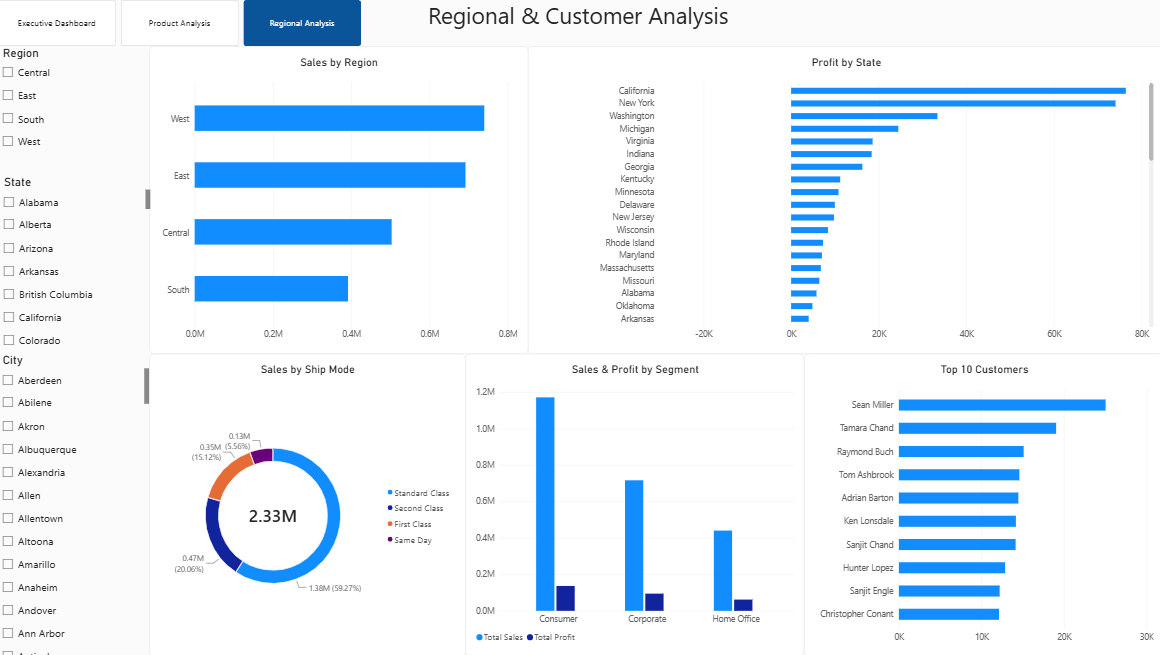

The page's visual inventory and layout, read from the dashboard file:
{"tool":"powerbi","page":{"name":"Regional Analysis","canvas":[1920,1080],"ordinal":2},"visuals":[{"type":"textbox","box":[708.1,0,537.2,279.9],"z":0},{"type":"barChart","title":"Sales by Region","fields":{"Category":["SalesData.Region"],"Y":["DateTable.Total Sales"]},"box":[249.1,76.2,623.7,506.3],"z":1000},{"type":"barChart","title":"Profit by State","fields":{"Category":["SalesData.State"],"Y":["DateTable.Total Profit"]},"box":[872.7,76.2,1047.7,506.3],"z":2000},{"type":"donutChart","title":"Sales by Ship Mode","fields":{"Category":["SalesData.Ship Mode"],"Y":["DateTable.Total Sales"]},"box":[249.1,582.5,520.8,498.1],"z":3000},{"type":"clusteredColumnChart","title":"Sales & Profit by Segment","fields":{"Category":["SalesData.Segment"],"Y":["DateTable.Total Sales","DateTable.Total Profit"]},"box":[769.8,582.5,557.8,498.1],"z":4000},{"type":"barChart","title":"Top 10 Customers","fields":{"Category":["SalesData.Customer Name"],"Y":["DateTable.Total Sales"]},"box":[1327.6,582.5,592.8,498.1],"z":5000},{"type":"slicer","fields":{"Values":["SalesData.Region"]},"box":[0,76.2,140,203.8],"z":6000},{"type":"slicer","fields":{"Values":["SalesData.State"]},"box":[2.1,288.2,249.1,294.3],"z":7000},{"type":"slicer","fields":{"Values":["SalesData.City"]},"box":[0,582.5,249.1,498.1],"z":8000},{"type":"pageNavigator","box":[0,0,599,76.2],"z":9000}]}

Visuals, with their boxes on the page's 1920x1080 design canvas (x1, y1, x2, y2). These are canvas units, not pixel positions in the 1160x655 screenshot, which may show the page scaled, cropped or inside an application window:
textbox: BBox(708, 0, 1245, 280)
"Sales by Region" barChart: BBox(249, 76, 873, 582)
"Profit by State" barChart: BBox(873, 76, 1920, 582)
"Sales by Ship Mode" donutChart: BBox(249, 582, 770, 1081)
"Sales & Profit by Segment" clusteredColumnChart: BBox(770, 582, 1328, 1081)
"Top 10 Customers" barChart: BBox(1328, 582, 1920, 1081)
slicer - SalesData.Region: BBox(0, 76, 140, 280)
slicer - SalesData.State: BBox(2, 288, 251, 582)
slicer - SalesData.City: BBox(0, 582, 249, 1081)
pageNavigator: BBox(0, 0, 599, 76)
